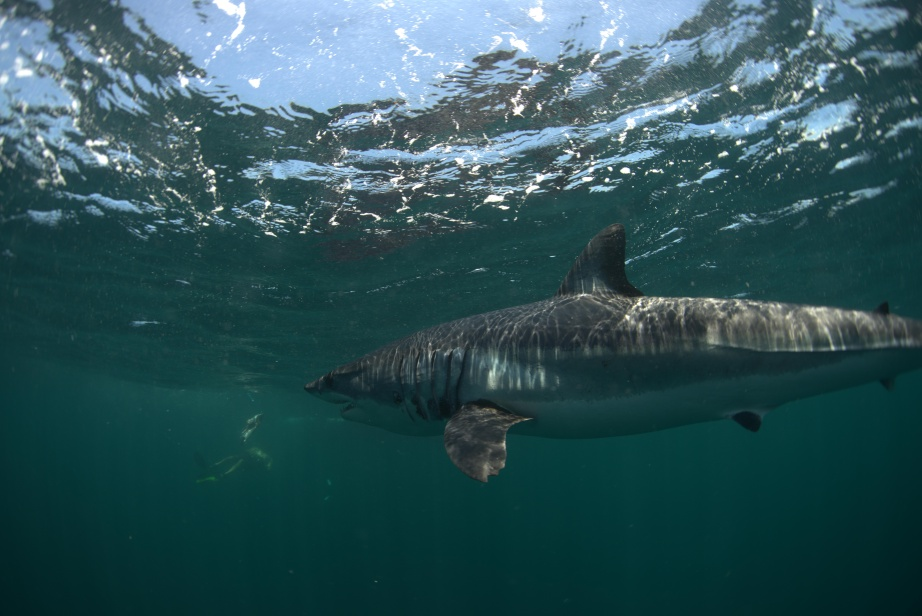Mako: (297, 218, 922, 488)
